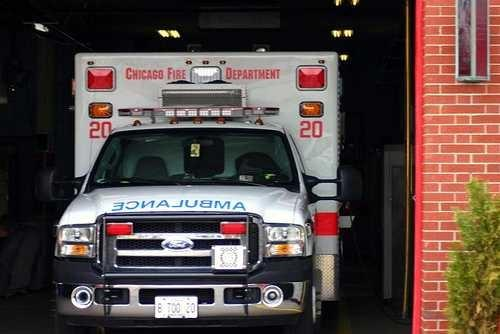car: (51, 49, 354, 333)
